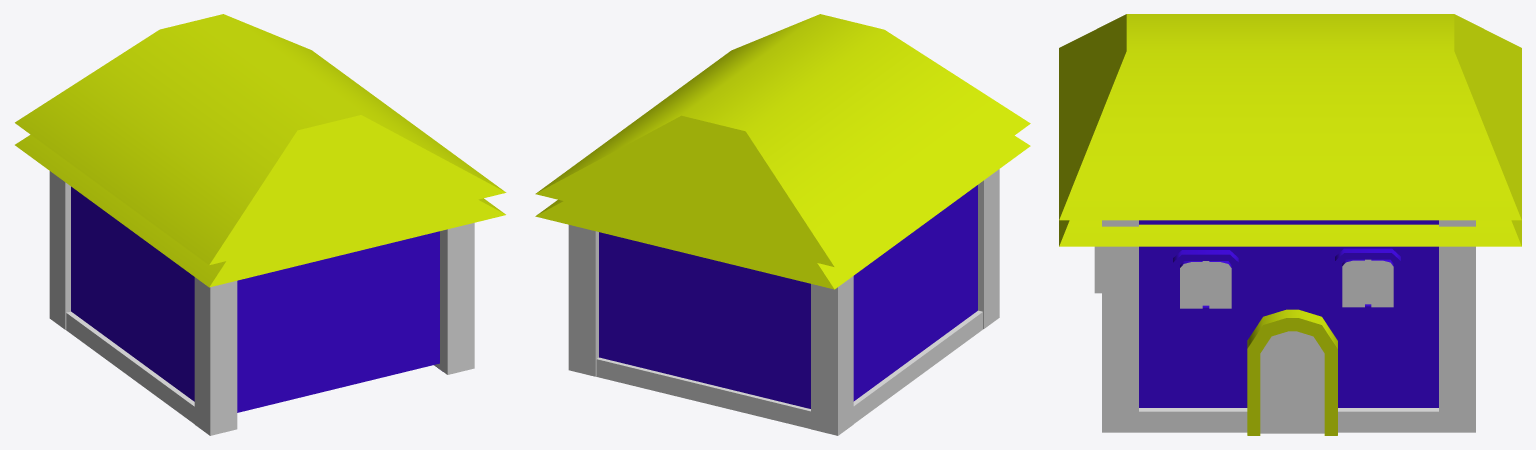
Rendered from housetype3.fbx.
The picture shows the model from 3 angles, left to right: view 1: azimuth 30°, elevation 25°; view 2: azimuth 150°, elevation 25°; view 3: azimuth 270°, elevation 25°; orthographic projection. The views are drawn at different scales.
Visible parts, largest first — view 1: Cube.062; view 2: Cube.062; view 3: Cube.062.
Boxes of the visible parts, x1,y1,x2,y2 form: Cube.062: (15,14,506,435); Cube.062: (535,14,1030,435); Cube.062: (1059,14,1521,435).
Bounding box in the file's own units: 2.34 × 2.05 × 2.66.
